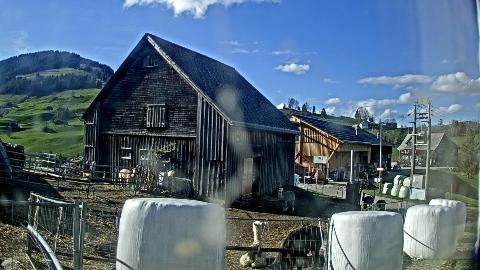car: (392, 164, 402, 172), (418, 162, 426, 166)
sheep: (270, 224, 324, 270), (240, 221, 266, 267), (276, 187, 296, 211), (120, 168, 138, 190), (252, 176, 260, 195), (363, 197, 373, 210), (376, 199, 386, 208), (252, 176, 256, 184)
